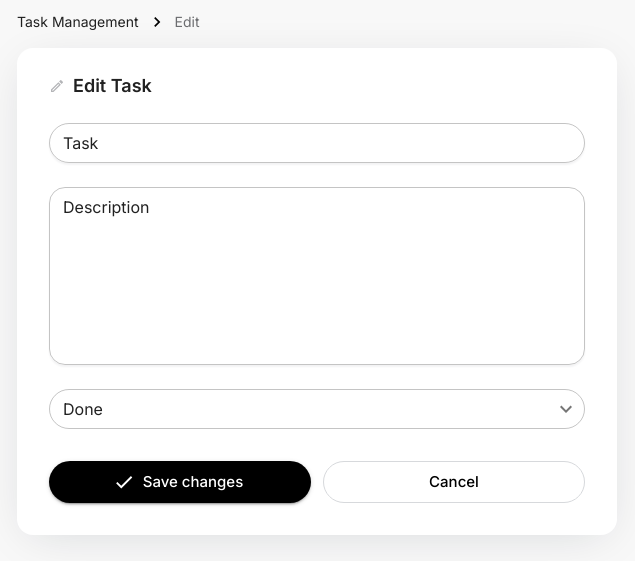
Test: available status options › for "done" status
Click the dropdown: (83, 409) [63,399,103,419]
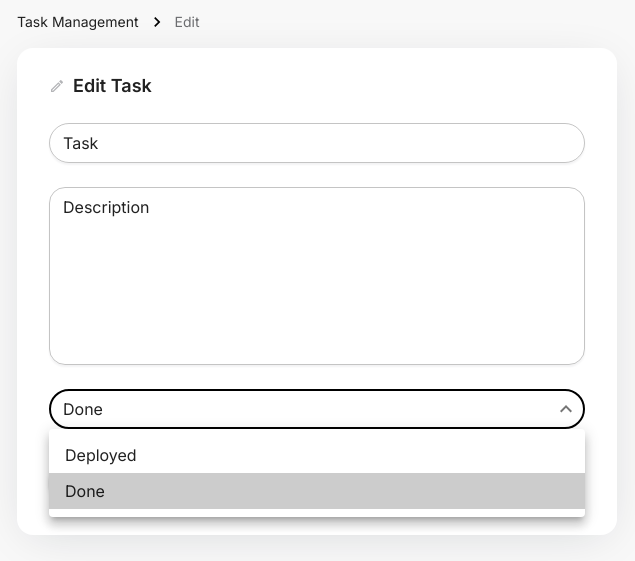
Expected: the option with test id "option-done" is shown, [49,473,585,509]
Expected: the option with test id "option-deployed" is shown, [65,445,137,465]
